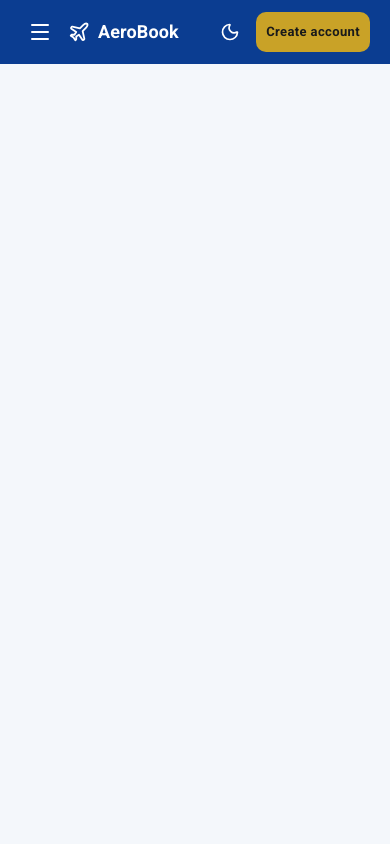
Test case: PublicHeader › opens the mobile menu with guest auth links
Click the button named "Open navigation menu" at (40, 32), box [20,12,60,52]
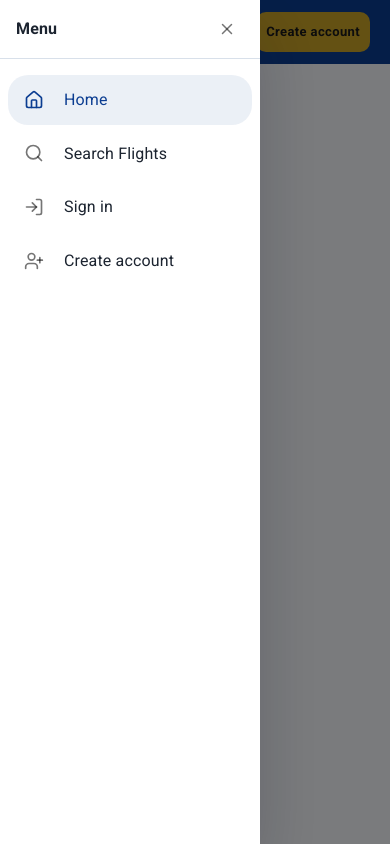
Expected: the button named "Open navigation menu" is expanded, [20,12,60,52]
Expected: the link "Sign in" is shown, [24,197,113,217]
Expected: the link "Create account" is shown, [24,251,174,271]
